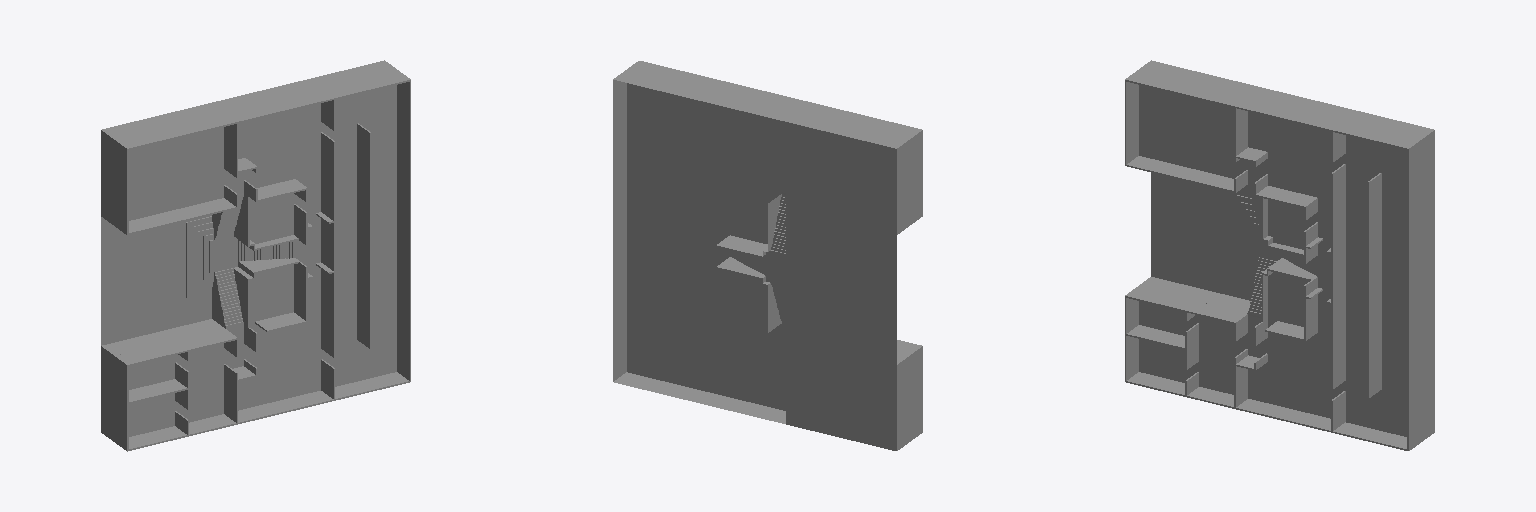
The model's file is museum_textures.obj.
3 views of the same model, side by side, from view 1: azimuth 30°, elevation 25°; view 2: azimuth 150°, elevation 25°; view 3: azimuth 330°, elevation 25° (orthographic).
Parts seen in each view (by area): view 1: Planta1_Plane; view 2: Planta1_Plane; view 3: Planta1_Plane.
Boxes of the visible parts, box(x1,y1,x2,y2) form: Planta1_Plane: box(101, 60, 410, 451); Planta1_Plane: box(613, 61, 922, 450); Planta1_Plane: box(1125, 60, 1434, 450).
Bounding box in the file's own units: 138 × 140 × 22.